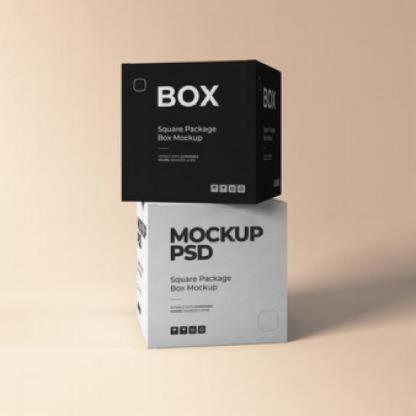box: (130, 185, 302, 355), (115, 56, 291, 215)
